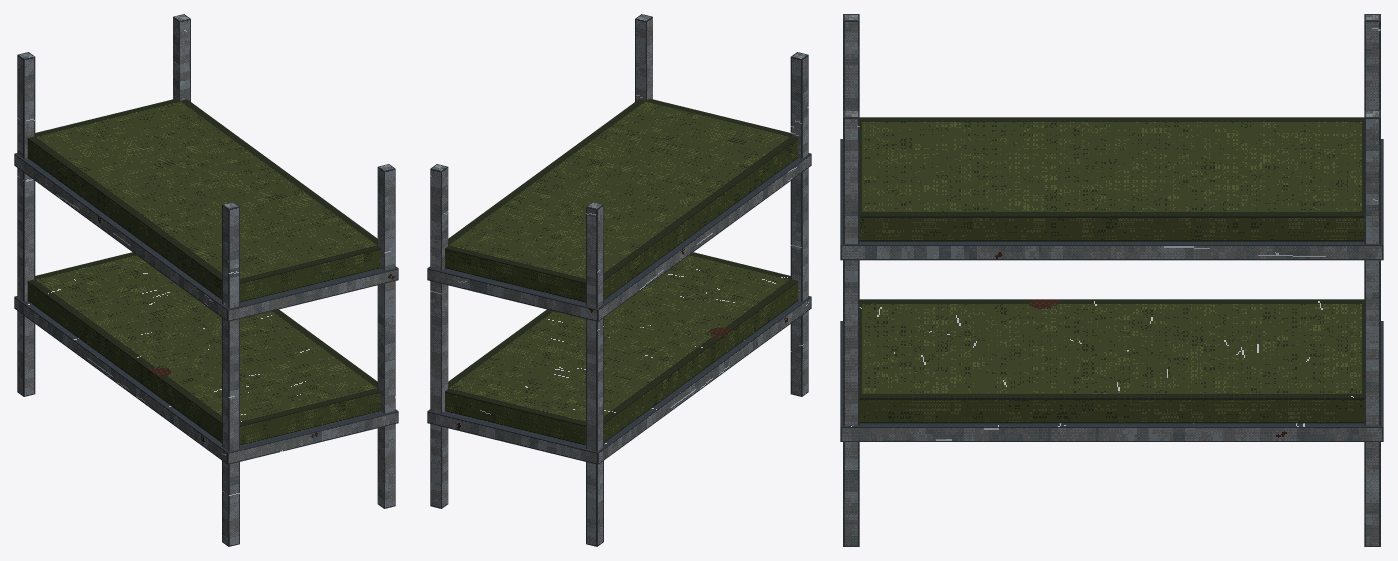
File: SM_Bunk_Steel_01.glb
3 renders of one model, left to right at view 1: azimuth 30°, elevation 25°; view 2: azimuth 150°, elevation 25°; view 3: azimuth 270°, elevation 25°, orthographic. The views are drawn at different scales.
Parts seen in each view (by area): view 1: SM_Bunk_Steel_01; view 2: SM_Bunk_Steel_01; view 3: SM_Bunk_Steel_01.
Boxes of the visible parts, x1,y1,x2,y2 form: SM_Bunk_Steel_01: (14,14,398,546); SM_Bunk_Steel_01: (427,14,811,546); SM_Bunk_Steel_01: (840,14,1383,546).
Size of the model in its own units: 0.9 by 1.7 by 1.95.
1 material, 1 textured.
